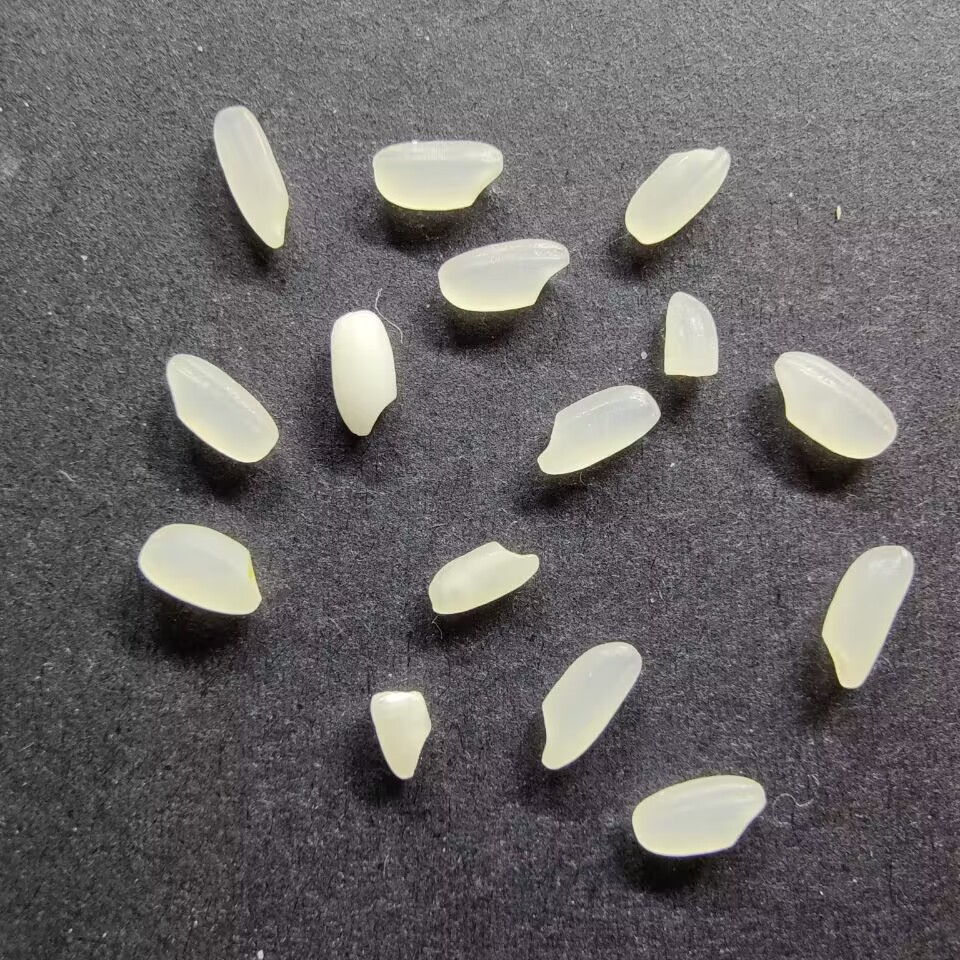broken: (369, 689, 435, 783), (662, 287, 723, 379)
rice: (818, 543, 916, 689), (771, 349, 897, 461), (537, 640, 642, 771), (163, 352, 279, 464), (135, 521, 263, 616), (210, 104, 291, 252), (629, 773, 768, 858), (534, 384, 661, 475), (622, 142, 732, 245), (435, 237, 572, 313), (371, 137, 505, 211), (327, 308, 399, 438), (426, 540, 541, 615)
